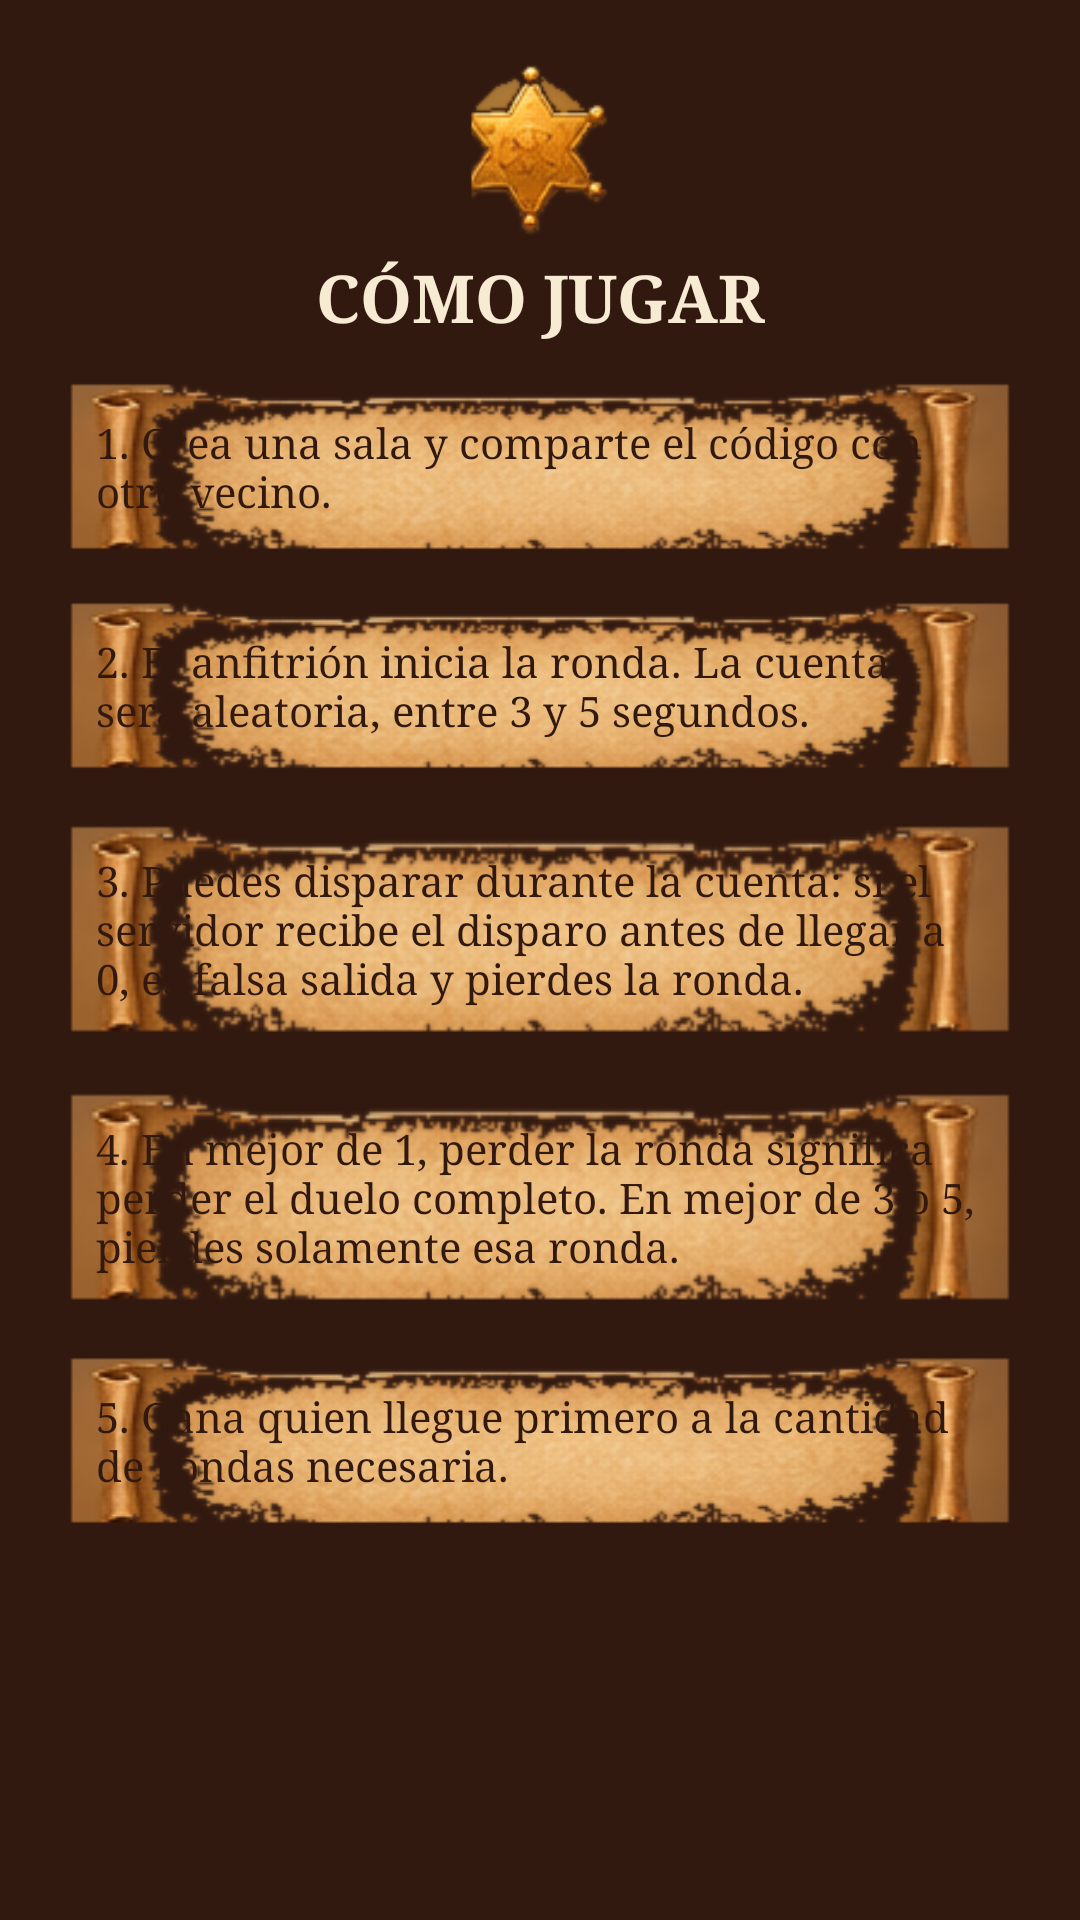

Icon click points for this 1080*1920 phone screenshot, format (x,y):
Insignia del sheriff: (538,149)
